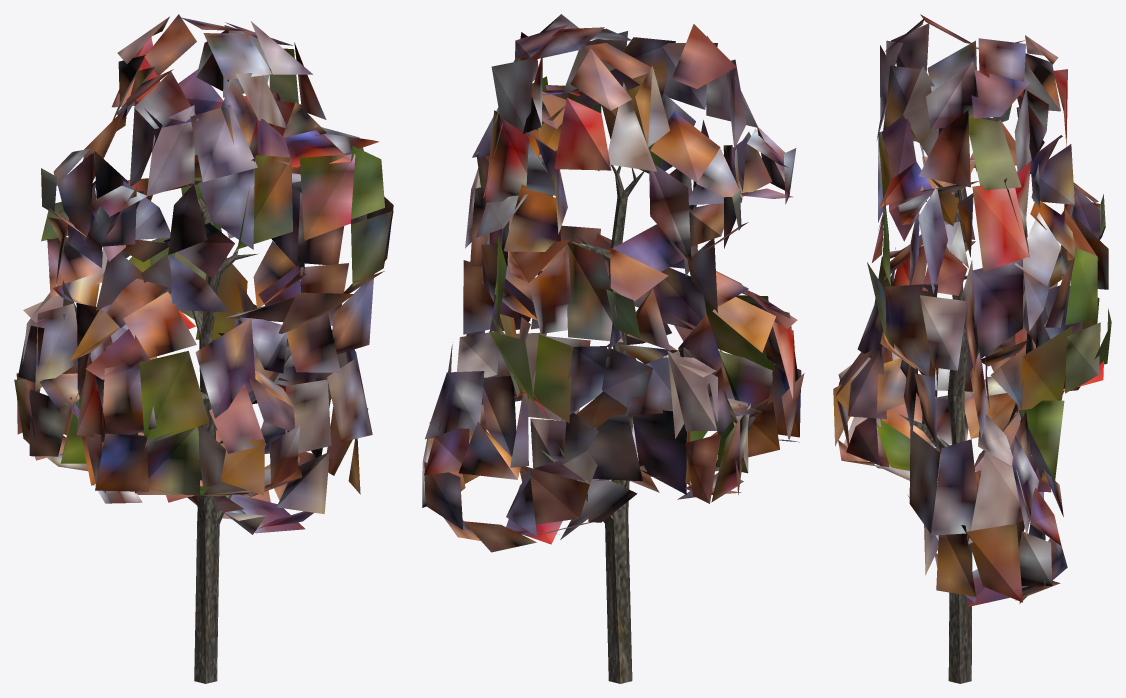
Rendered from Tree13.fbx.
The picture shows the model from 3 angles, left to right: view 1: azimuth 30°, elevation 25°; view 2: azimuth 150°, elevation 25°; view 3: azimuth 270°, elevation 25°; orthographic projection. The views are drawn at different scales.
Parts seen in each view (by area): view 1: Tree13; view 2: Tree13; view 3: Tree13.
Part boxes in pixels (bbox=[...]): Tree13: bbox=[14, 14, 393, 683]; Tree13: bbox=[422, 14, 804, 683]; Tree13: bbox=[833, 14, 1111, 683].
Size of the model in its own units: 1006 by 1958 by 768.
